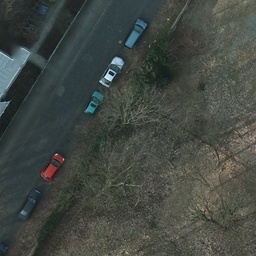car: (99, 55, 124, 89), (122, 16, 147, 50), (17, 190, 40, 220), (40, 152, 63, 182), (82, 89, 105, 119)
